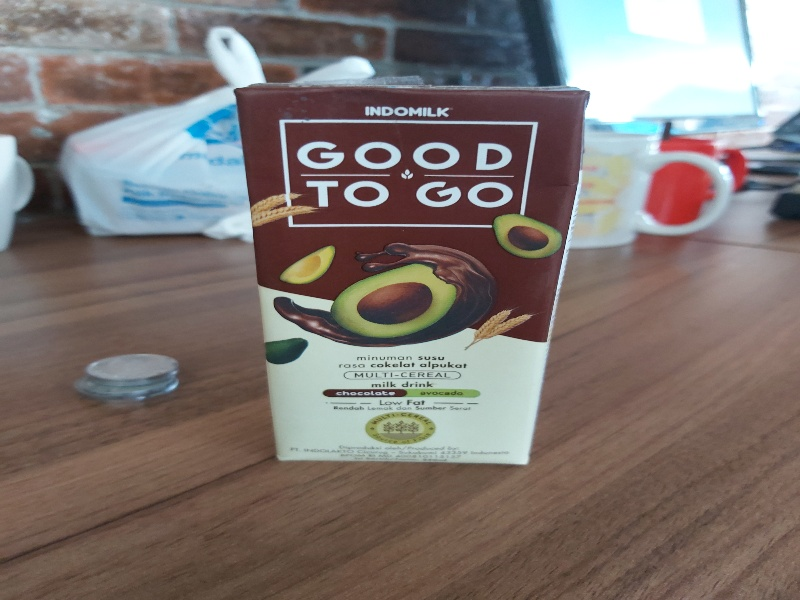cokelat: (235, 80, 591, 463)
